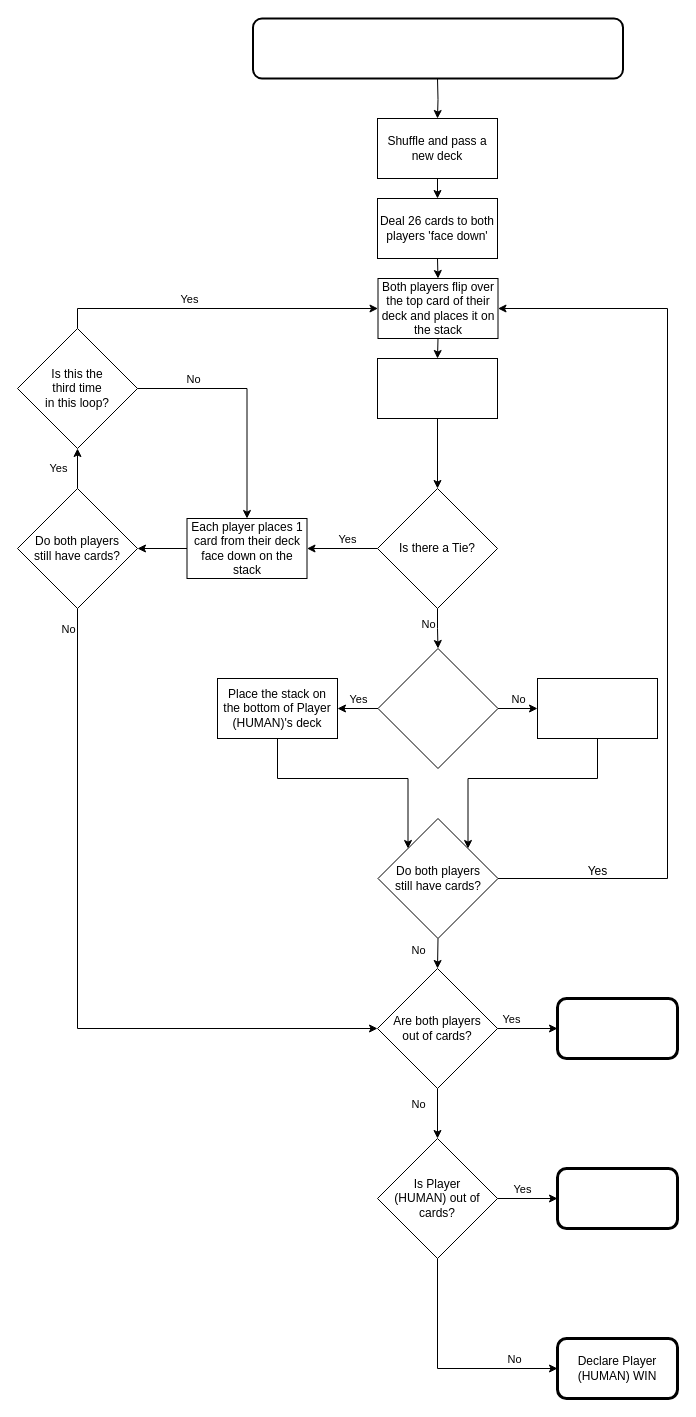
This 696x1417 diagram has some shape labels left out. The shapes that lost their labels are listed below. From the top down, each one's centre as x and y in pixels, then its label:
At (438,48): "Player (HUMAN) Starts 'NEW GAME'".
At (437,388): "Evaluate each card and determine who wins".
At (437,708): "Did Player (HUMAN) win?".
At (597,708): "Place the stack on the bottom of Player (COMP)'s deck".
At (617,1028): "Declare TIE".
At (617,1198): "Declare Player (COMP) WIN".
